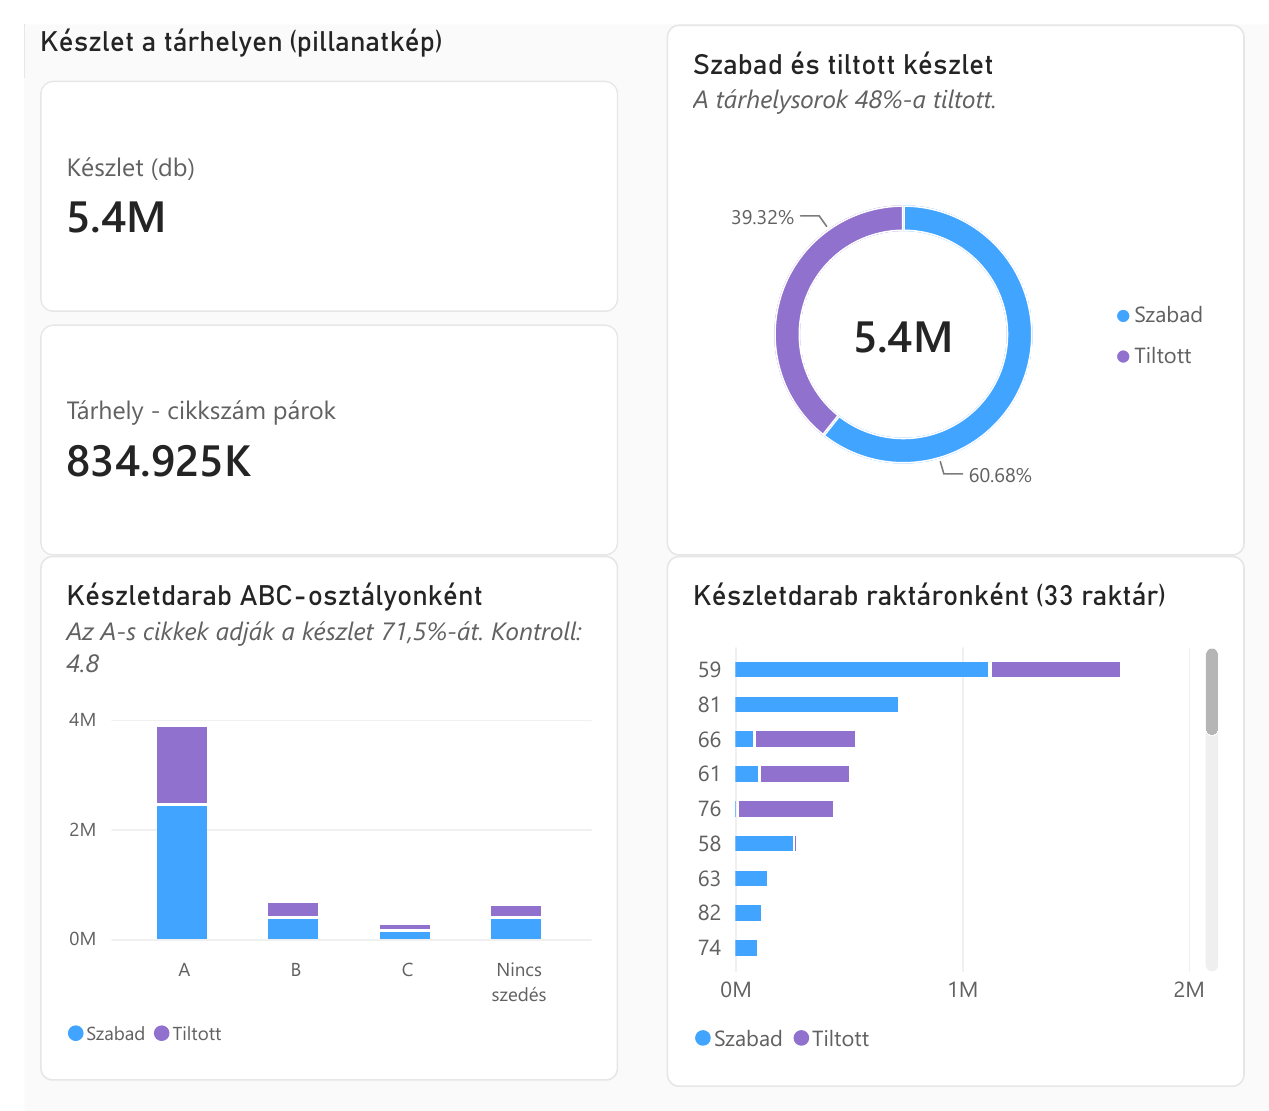

What the dashboard file says about the page in this screenshot:
{"tool":"powerbi","page":{"name":"Készlet","canvas":[1920,1080],"ordinal":1},"visuals":[{"type":"cardVisual","title":"Készlet a tárhelyen (pillanatkép)","fields":{"Data":["Sum(FactKeszlet.Darab)","CountNonNull(FactKeszlet.Cikkszam)"]},"box":[10,0,370,340],"z":0},{"type":"donutChart","title":"Szabad és tiltott készlet","fields":{"Category":["FactKeszlet.keszlet_kategoria"],"Y":["Sum(FactKeszlet.Darab)"]},"box":[411.2,0,370,340],"z":1000},{"type":"columnChart","title":"Készletdarab ABC-osztályonként","fields":{"Category":["DimCikk.ABC"],"Series":["FactKeszlet.keszlet_kategoria"],"Y":["Sum(FactKeszlet.Darab)"]},"box":[10,340,370,336.2],"z":2000},{"type":"barChart","title":"Készletdarab raktáronként (33 raktár)","fields":{"Category":["FactKeszlet.Raktár"],"Series":["FactKeszlet.keszlet_kategoria"],"Y":["Sum(FactKeszlet.Darab)"]},"box":[411.2,340,370,340],"z":3000}]}

Visuals, with their boxes on the page's 1920x1080 design canvas (x1, y1, x2, y2). These are canvas units, not pixel positions in the 1269x1111 screenshot, which may show the page scaled, cropped or inside an application window:
"Készlet a tárhelyen (pillanatkép)" cardVisual: bbox=(10, 0, 380, 340)
"Szabad és tiltott készlet" donutChart: bbox=(411, 0, 781, 340)
"Készletdarab ABC-osztályonként" columnChart: bbox=(10, 340, 380, 676)
"Készletdarab raktáronként (33 raktár)" barChart: bbox=(411, 340, 781, 680)
